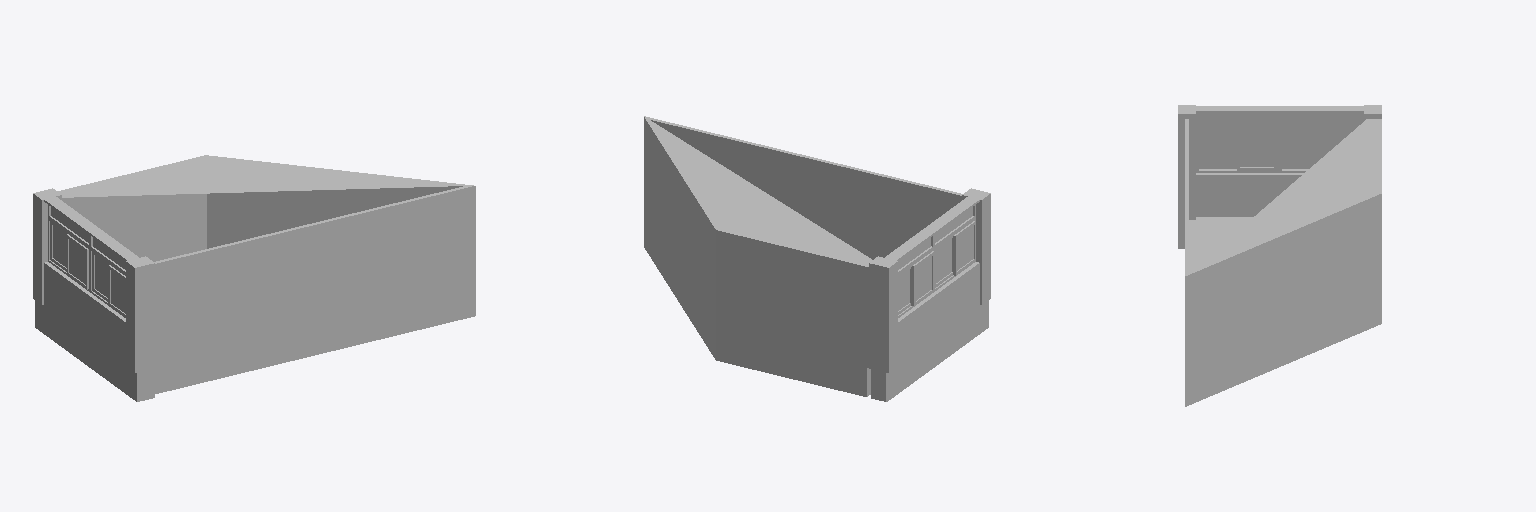
3 renders of one model, left to right at view 1: azimuth 30°, elevation 25°; view 2: azimuth 150°, elevation 25°; view 3: azimuth 270°, elevation 25°, orthographic.
Parts seen in each view (by area): view 1: Mesh1 Group1 Model, Mesh3 Group3 Model, Mesh2 Group2 Model, Mesh5 Group5 Model, Mesh4 Group4 Model, Mesh15 Glazing3 Window_Sliding_Casement_4_1 Window_Sliding_2_1 G; view 2: Mesh1 Group1 Model, Mesh3 Group3 Model, Mesh2 Group2 Model, Mesh5 Group5 Model, Mesh4 Group4 Model, Mesh22 Glazing7 Window_Sliding_Casement_4_3 Window_Sliding_2_2 G, Mesh19 Glazing5 Window_Sliding_Casement_4_2 Window_Sliding_2_2 G, Mesh15 Glazing3 Window_Sliding_Casement_4_1 Window_Sliding_2_1 G; view 3: Mesh1 Group1 Model, Mesh2 Group2 Model, Mesh3 Group3 Model, Mesh5 Group5 Model, Mesh21 Glazing6 Window_Sliding_Casement_4_3 Window_Sliding_2_2 G, Mesh14 Glazing2 Window_Sliding_Casement_4_1 Window_Sliding_2_1 G, Mesh18 Glazing4 Window_Sliding_Casement_4_2 Window_Sliding_2_2 G, Mesh9 Group12 Group10 Group6 Model, Mesh7 Group9 Group7 Group6 Model, Mesh17 Window_Sliding_Main_Frame_2_1 Window_Sliding_2_2 Group6 M.
Part boxes in pixels (left/top/right/bottom): Mesh1 Group1 Model: left=57, top=155, right=475, bottom=364; Mesh3 Group3 Model: left=35, top=190, right=148, bottom=401; Mesh2 Group2 Model: left=149, top=287, right=475, bottom=398; Mesh5 Group5 Model: left=126, top=256, right=154, bottom=372; Mesh4 Group4 Model: left=33, top=188, right=61, bottom=304; Mesh15 Glazing3 Window_Sliding_Casement_4_1 Window_Sliding_2_1 G: left=69, top=240, right=85, bottom=284; Mesh1 Group1 Model: left=644, top=116, right=962, bottom=372; Mesh3 Group3 Model: left=871, top=197, right=988, bottom=401; Mesh2 Group2 Model: left=644, top=219, right=870, bottom=396; Mesh5 Group5 Model: left=962, top=188, right=990, bottom=304; Mesh4 Group4 Model: left=869, top=256, right=897, bottom=372; Mesh22 Glazing7 Window_Sliding_Casement_4_3 Window_Sliding_2_2 G: left=957, top=226, right=973, bottom=270; Mesh19 Glazing5 Window_Sliding_Casement_4_2 Window_Sliding_2_2 G: left=936, top=239, right=951, bottom=282; Mesh15 Glazing3 Window_Sliding_Casement_4_1 Window_Sliding_2_1 G: left=916, top=257, right=931, bottom=300; Mesh1 Group1 Model: left=1185, top=119, right=1381, bottom=377; Mesh2 Group2 Model: left=1178, top=217, right=1381, bottom=406; Mesh3 Group3 Model: left=1178, top=106, right=1381, bottom=216; Mesh5 Group5 Model: left=1178, top=105, right=1195, bottom=219; Mesh21 Glazing6 Window_Sliding_Casement_4_3 Window_Sliding_2_2 G: left=1202, top=132, right=1236, bottom=165; Mesh14 Glazing2 Window_Sliding_Casement_4_1 Window_Sliding_2_1 G: left=1286, top=132, right=1319, bottom=165; Mesh18 Glazing4 Window_Sliding_Casement_4_2 Window_Sliding_2_2 G: left=1240, top=134, right=1273, bottom=166; Mesh9 Group12 Group10 Group6 Model: left=1199, top=114, right=1277, bottom=125; Mesh7 Group9 Group7 Group6 Model: left=1282, top=114, right=1360, bottom=125; Mesh17 Window_Sliding_Main_Frame_2_1 Window_Sliding_2_2 Group6 M: left=1196, top=129, right=1280, bottom=172.
Bounding box in the file's own units: 8.55 × 3.2 × 4.4.